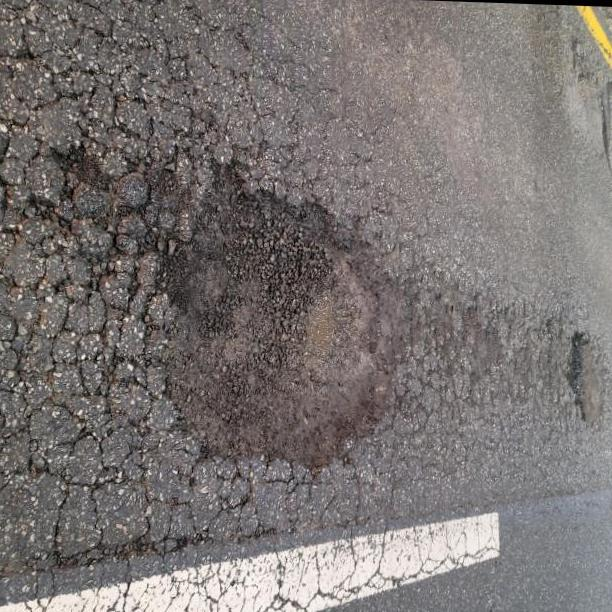pothole: (25, 106, 448, 494), (558, 324, 610, 428)
